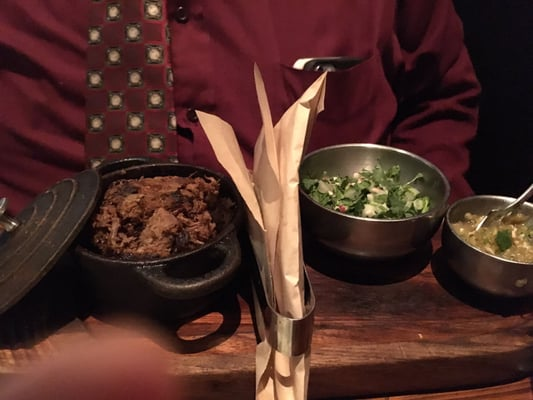salad: (489, 183, 533, 229)
sushi: (75, 165, 244, 302), (298, 142, 450, 262), (442, 192, 533, 300)
